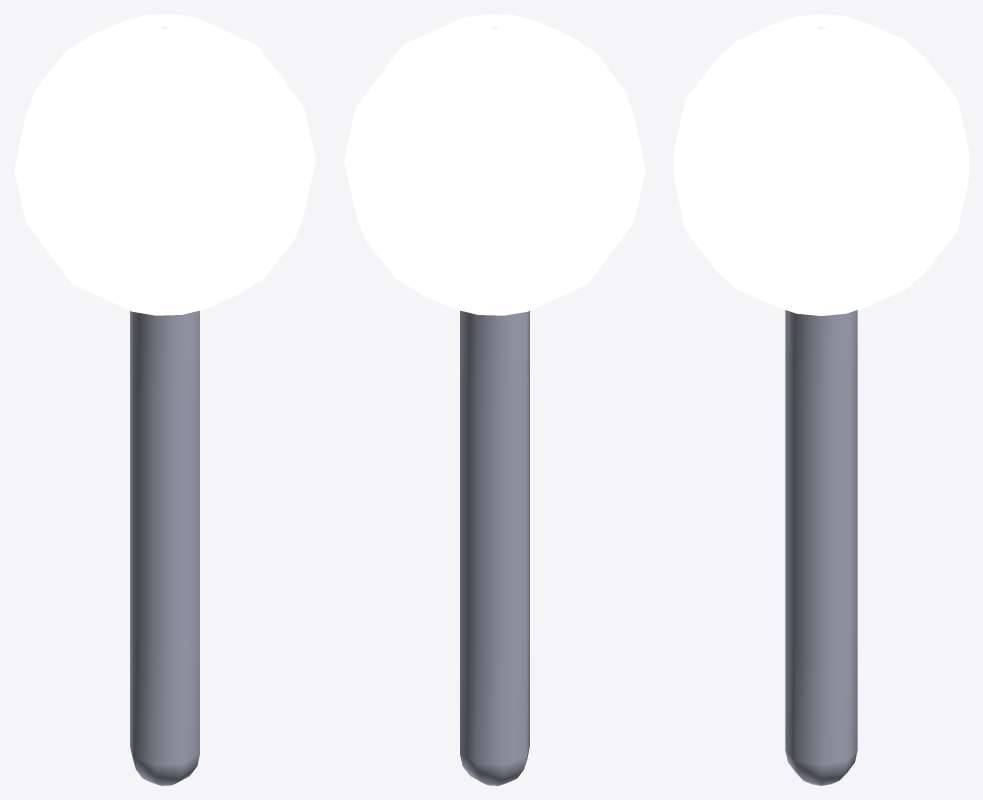
Rendered from stalk.glb.
The picture shows the model from 3 angles, left to right: view 1: azimuth 30°, elevation 25°; view 2: azimuth 150°, elevation 25°; view 3: azimuth 270°, elevation 25°; orthographic projection.
Visible parts, largest first — view 1: stalk; view 2: stalk; view 3: stalk.
Part boxes in pixels (<box>): stalk: <box>14,14,315,785</box>; stalk: <box>344,14,645,785</box>; stalk: <box>674,14,968,785</box>.
Size of the model in its own units: 0.15 by 0.413 by 0.1462.
